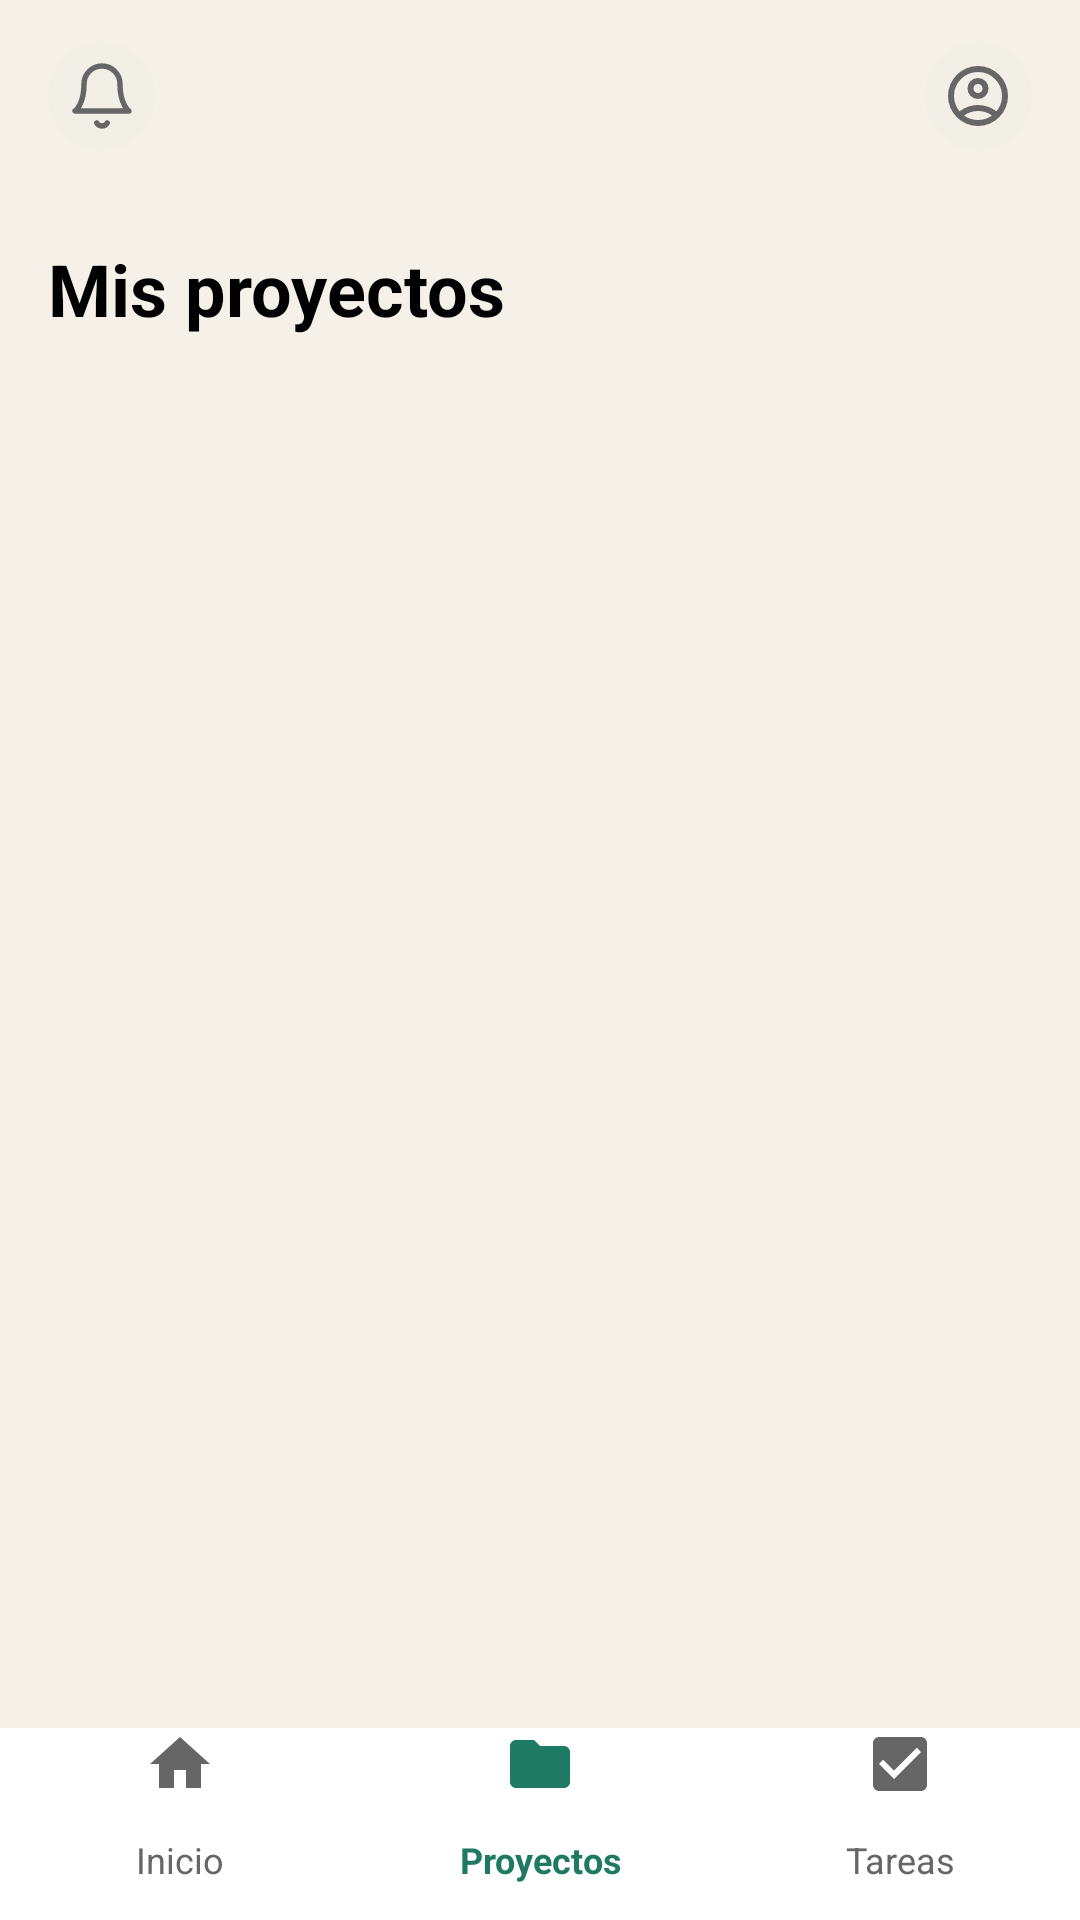

Icon click points for this 1080×1920 phone screenshot, format point (x, y):
Notificaciones: point (102, 96)
Perfil: point (978, 96)
